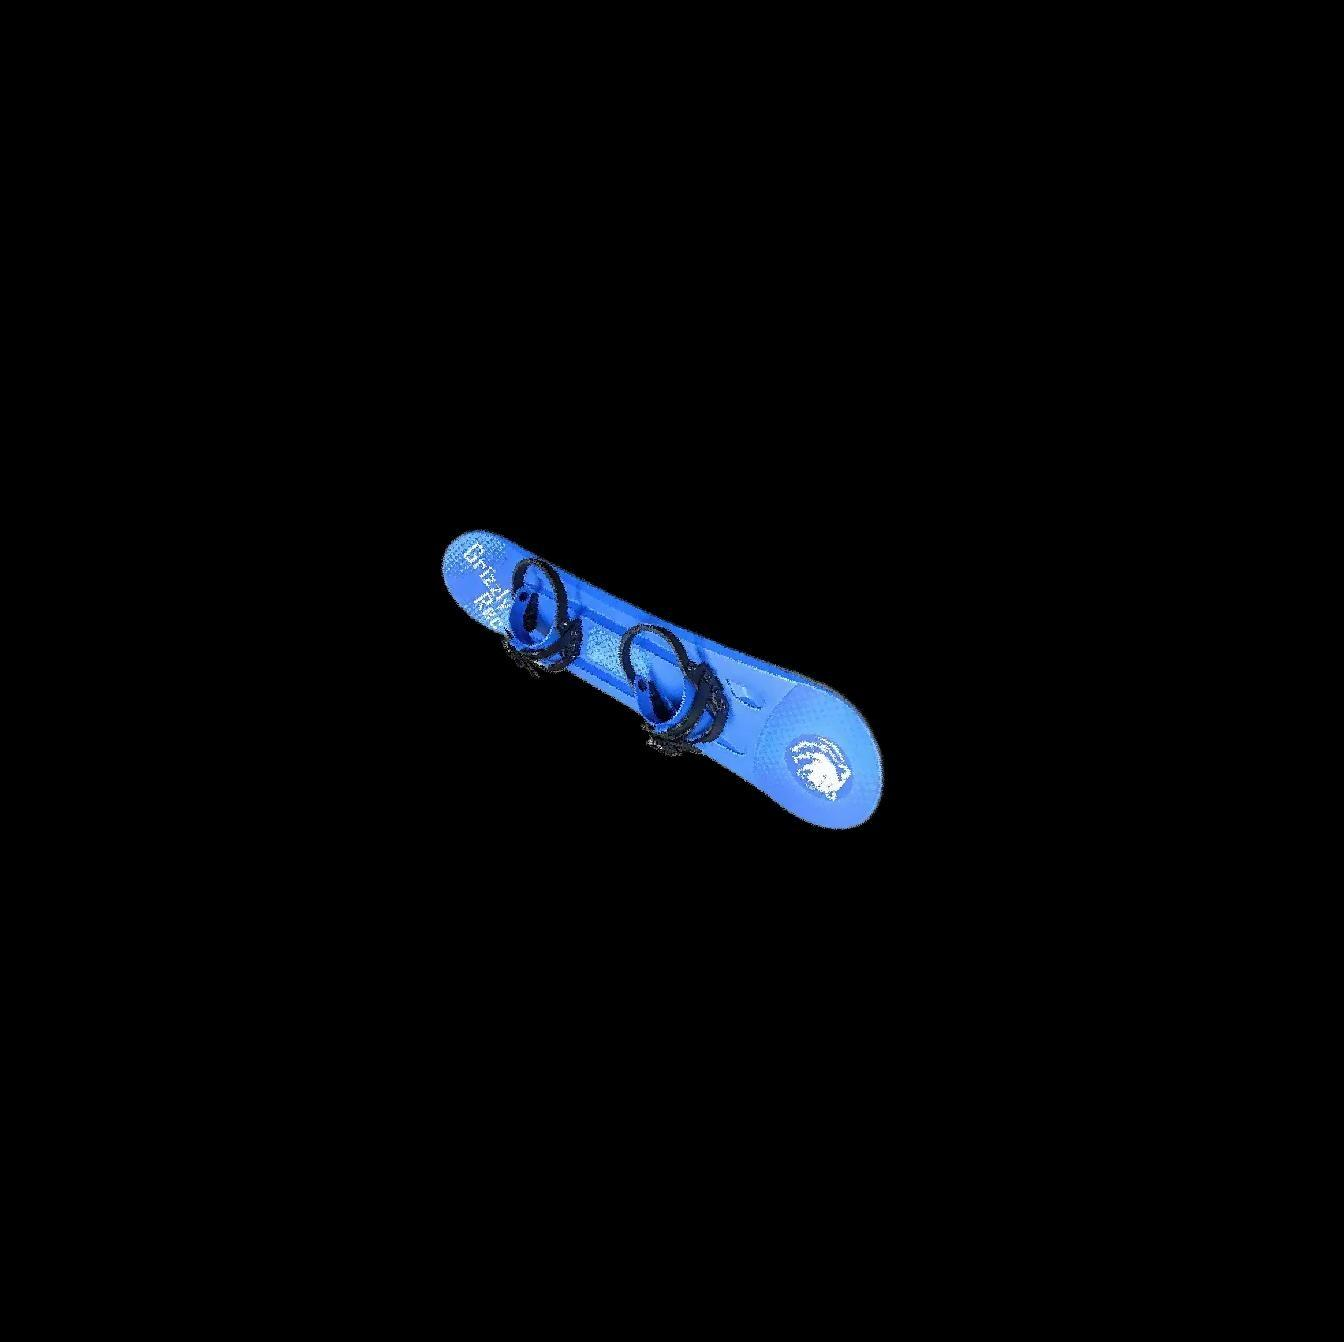Snowboard: (439, 526, 885, 832)
